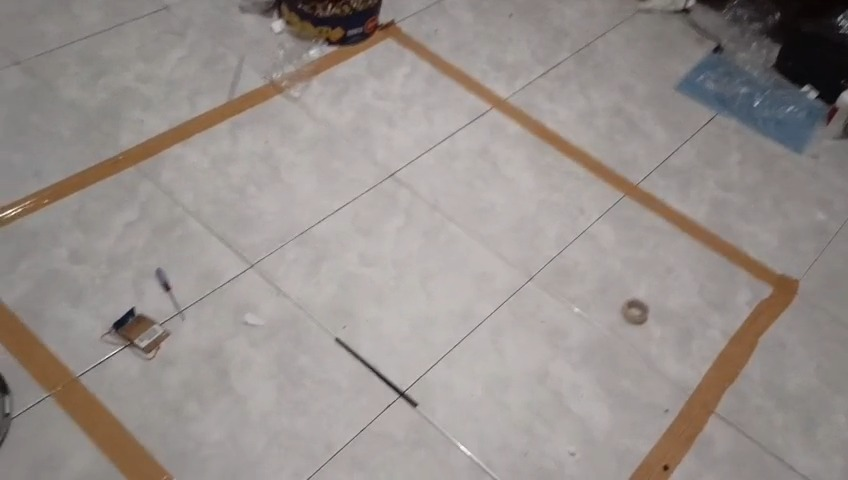floor marking: (303, 25, 798, 479), (0, 83, 282, 226), (0, 302, 171, 479)
